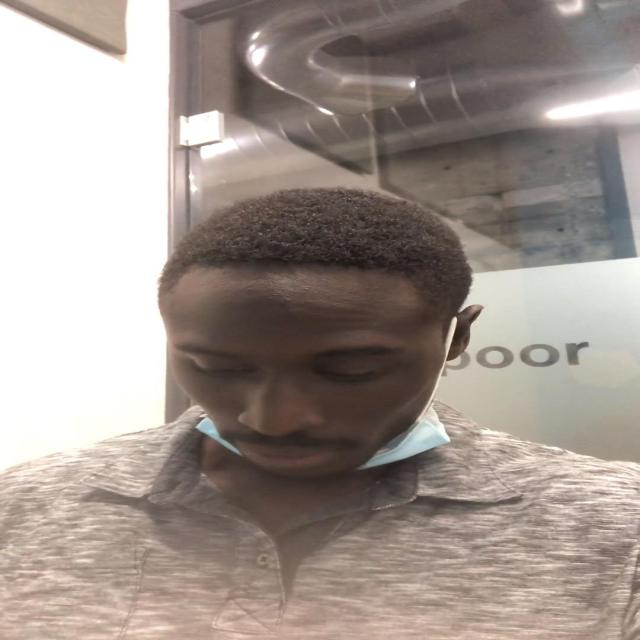face: (166, 272, 469, 477)
